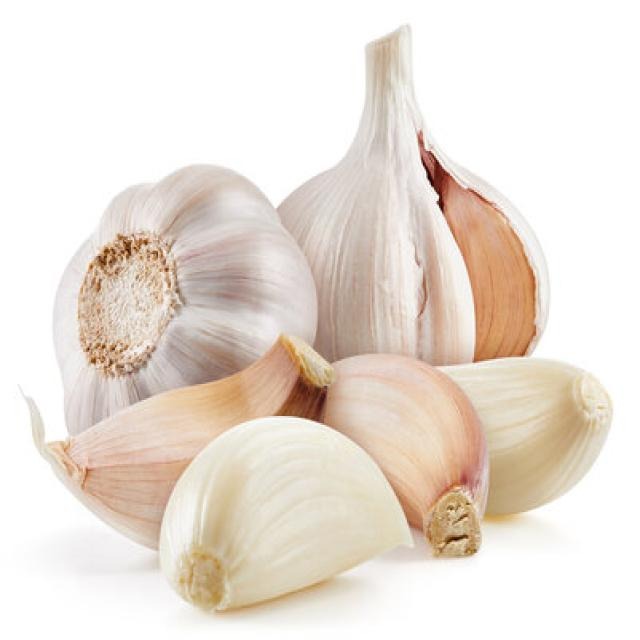Garlic: (274, 34, 548, 376), (51, 162, 318, 437), (18, 331, 334, 551), (156, 414, 414, 614), (321, 350, 490, 556), (434, 354, 613, 516)
